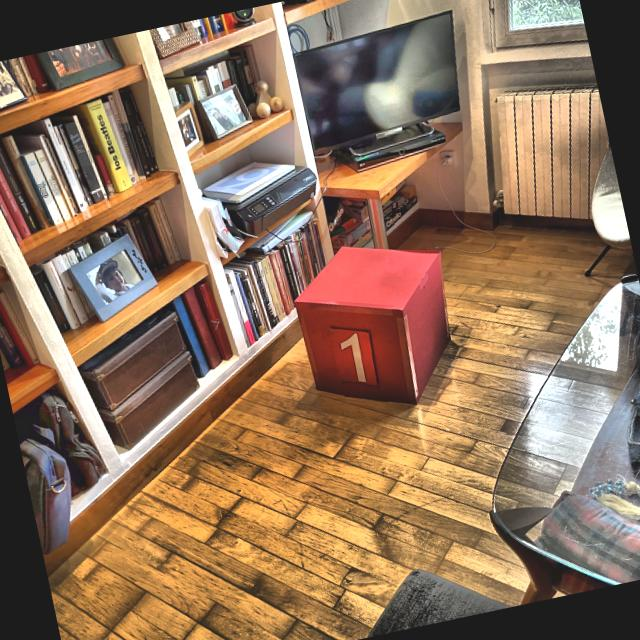one: (336, 329, 370, 386)
red box: (282, 226, 470, 426)
